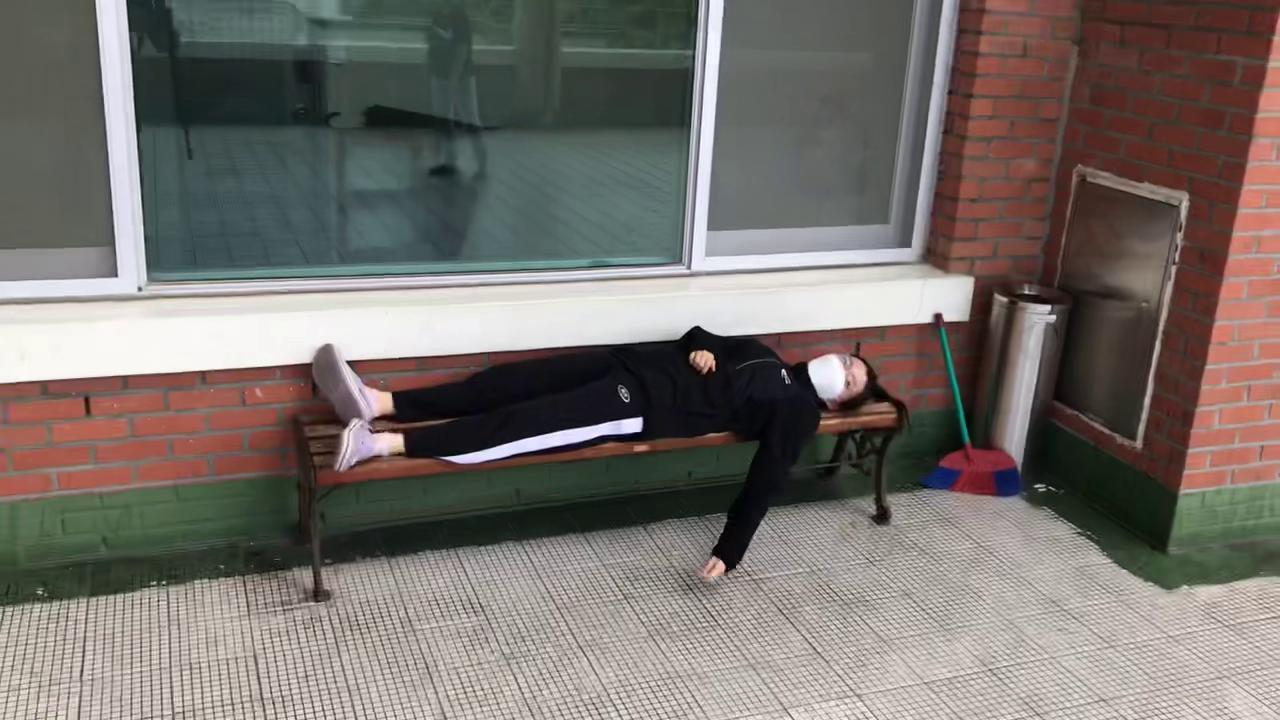sleep: (306, 332, 880, 584)
